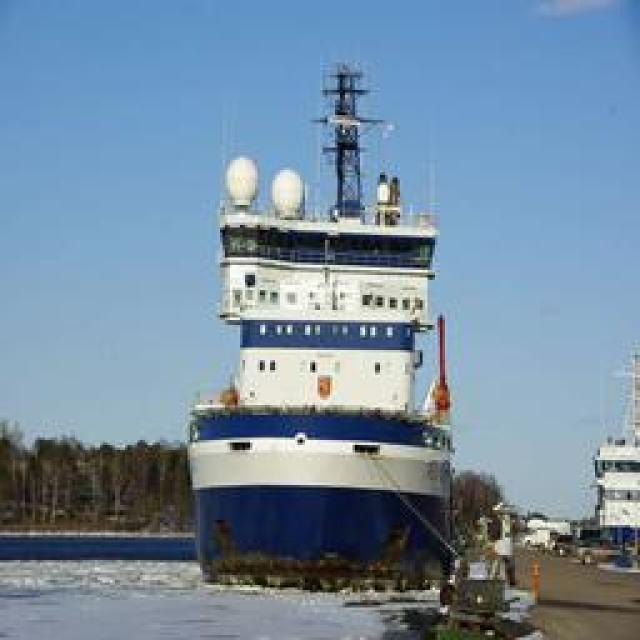ship2: (186, 64, 457, 598)
